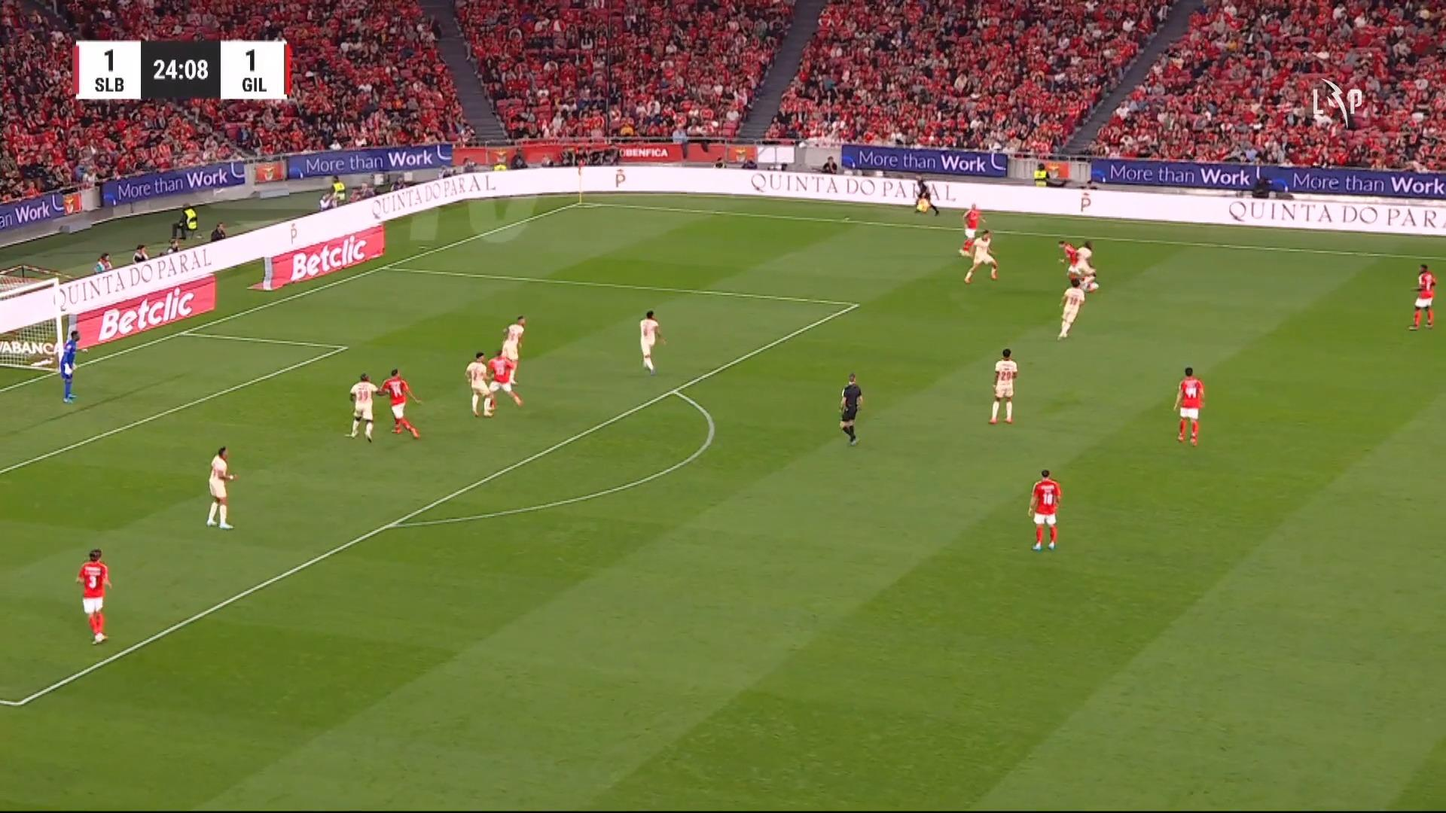ball: (1086, 281, 1099, 291)
goalkeeper: (57, 329, 87, 403)
player: (75, 548, 112, 644), (377, 368, 422, 439), (1027, 468, 1061, 550), (206, 446, 237, 530), (1173, 367, 1205, 446), (344, 373, 378, 443), (484, 348, 523, 409), (988, 348, 1017, 425), (465, 351, 496, 418), (962, 229, 998, 284), (1408, 263, 1436, 330), (1057, 276, 1086, 340), (639, 309, 666, 374), (501, 315, 526, 385), (959, 202, 986, 255), (1057, 238, 1079, 291), (1078, 241, 1097, 291)
referee: (839, 372, 863, 446), (912, 175, 938, 215)
